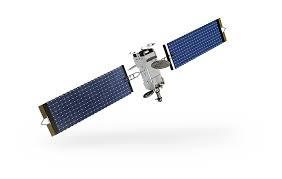antenna: (150, 58, 172, 70)
body: (131, 41, 167, 104)
solar: (36, 62, 136, 139), (160, 16, 229, 72)
